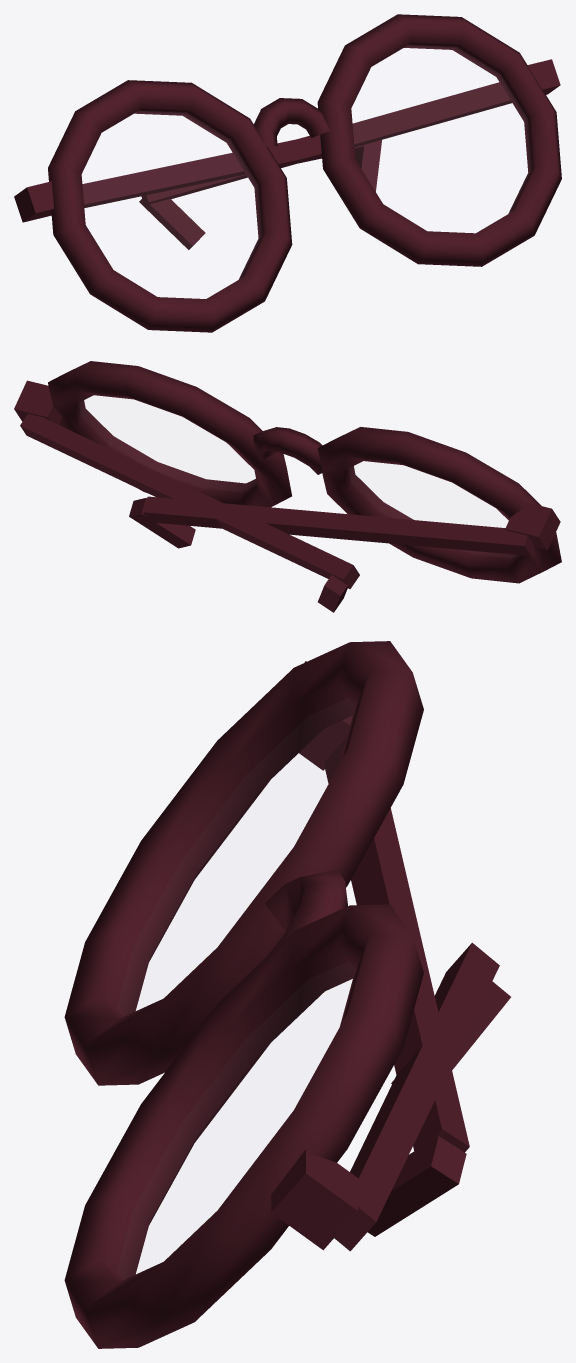
The model's file is gafas.glb.
3 renders of one model, top to bottom at view 1: azimuth 30°, elevation 25°; view 2: azimuth 150°, elevation 25°; view 3: azimuth 270°, elevation 25°, orthographic. The views are drawn at different scales.
Parts seen in each view (by area): view 1: Gafas parte 1, Gafas parte 5, Gafas parte 7, Gafas parte 3, Gafas parte 9, Gafas parte 8, Gafas parte 2, Gafas parte 4, Gafas parte 6; view 2: Gafas parte 1, Gafas parte 5, Gafas parte 3, Gafas parte 7, Gafas parte 9, Gafas parte 2, Gafas parte 6, Gafas parte 4, Gafas parte 8; view 3: Gafas parte 5, Gafas parte 1, Gafas parte 7, Gafas parte 3, Gafas parte 6, Gafas parte 4, Gafas parte 9, Gafas parte 8, Gafas parte 2.
Part boxes in pixels (x1,y1,x2,y2): Gafas parte 1: [48, 80, 292, 332]; Gafas parte 5: [317, 14, 561, 266]; Gafas parte 7: [141, 82, 511, 206]; Gafas parte 3: [82, 139, 369, 207]; Gafas parte 9: [254, 98, 330, 146]; Gafas parte 8: [139, 198, 205, 249]; Gafas parte 2: [14, 181, 53, 222]; Gafas parte 4: [355, 140, 381, 191]; Gafas parte 6: [527, 59, 560, 94]; Gafas parte 1: [317, 427, 561, 583]; Gafas parte 5: [48, 361, 291, 507]; Gafas parte 3: [143, 496, 533, 555]; Gafas parte 7: [20, 414, 359, 588]; Gafas parte 9: [253, 427, 322, 474]; Gafas parte 2: [505, 502, 560, 550]; Gafas parte 6: [14, 380, 62, 424]; Gafas parte 4: [129, 498, 195, 548]; Gafas parte 8: [318, 575, 349, 612]; Gafas parte 5: [64, 904, 423, 1348]; Gafas parte 1: [64, 641, 423, 1085]; Gafas parte 7: [334, 942, 499, 1251]; Gafas parte 3: [323, 737, 469, 1157]; Gafas parte 6: [271, 1149, 357, 1250]; Gafas parte 4: [368, 1136, 466, 1236]; Gafas parte 9: [264, 870, 347, 954]; Gafas parte 8: [391, 981, 510, 1083]; Gafas parte 2: [299, 661, 352, 770].
Bounding box in the file's own units: 2.18 × 0.7645 × 0.8035.
